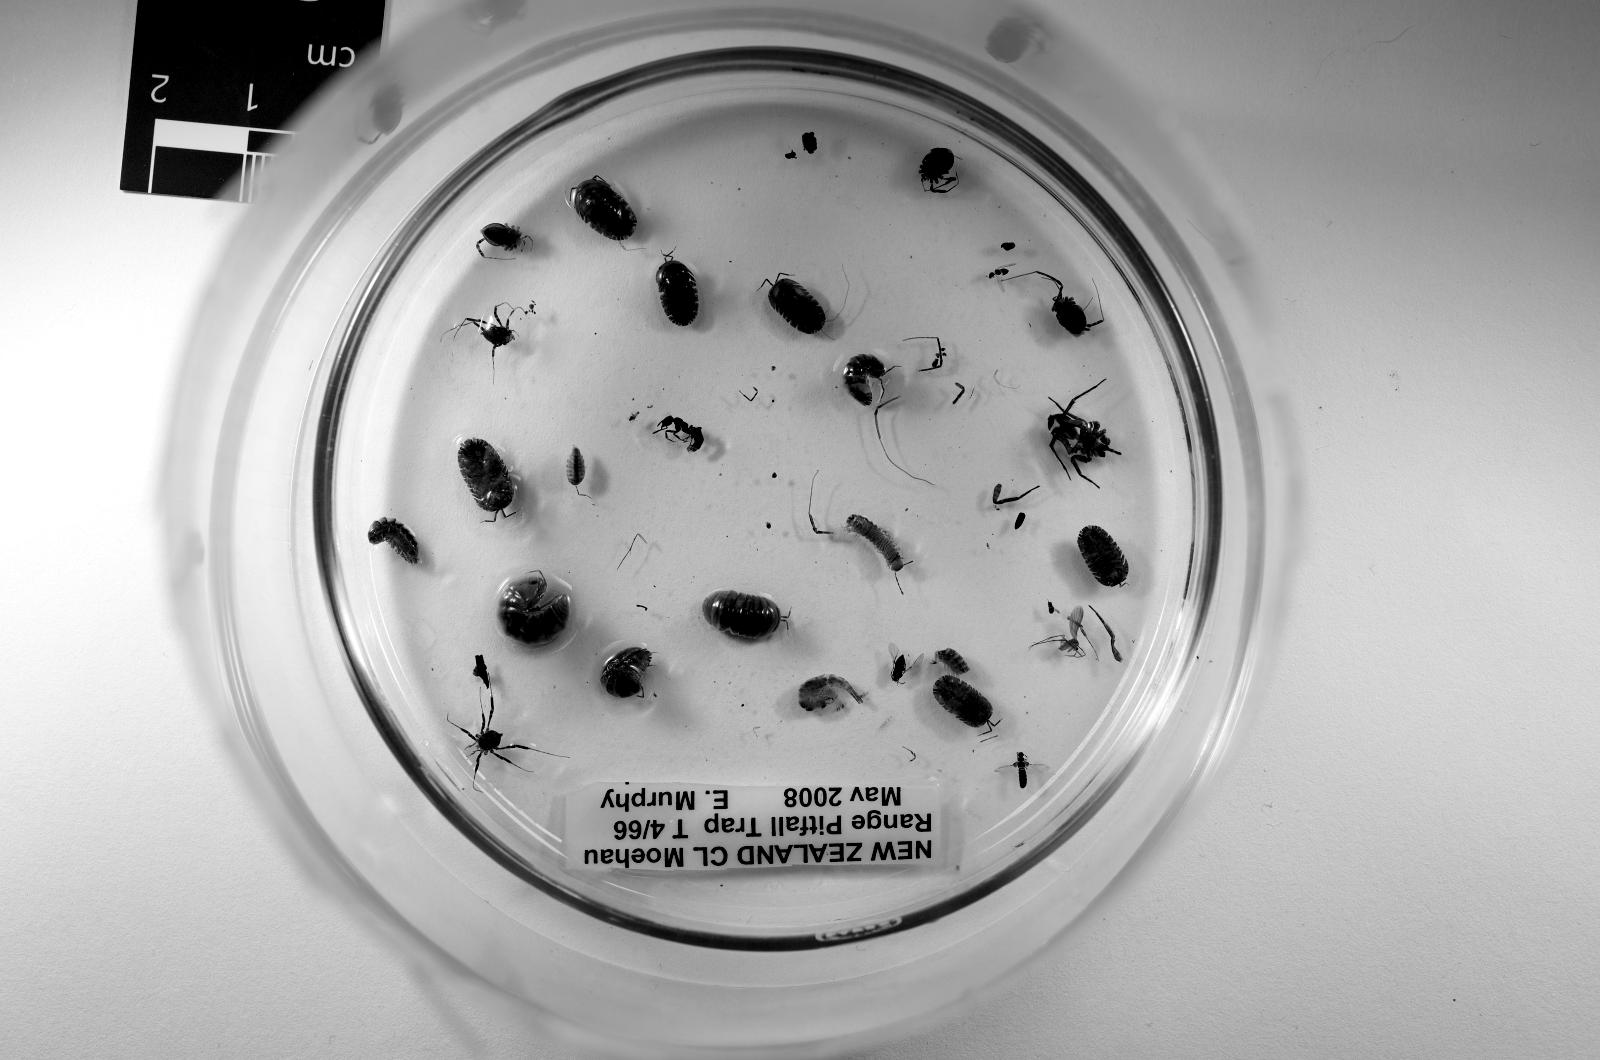araneae: (1047, 398, 1112, 475)
archaeognatha: (797, 674, 862, 711)
coleoptera: (997, 752, 1047, 789), (888, 643, 922, 683), (988, 267, 1009, 279)
diptera: (1041, 606, 1084, 655)
formicidae: (656, 416, 703, 453)
isopoda: (497, 571, 569, 643), (569, 177, 638, 245), (459, 438, 516, 519), (703, 590, 784, 640), (769, 276, 825, 332), (1078, 525, 1128, 587), (934, 674, 991, 727), (656, 255, 697, 326), (600, 646, 653, 699), (844, 354, 891, 407), (369, 519, 419, 565), (566, 447, 584, 488)
opiliones: (456, 696, 541, 776), (459, 304, 522, 357), (1047, 276, 1103, 335), (919, 149, 956, 193), (481, 224, 528, 252)
